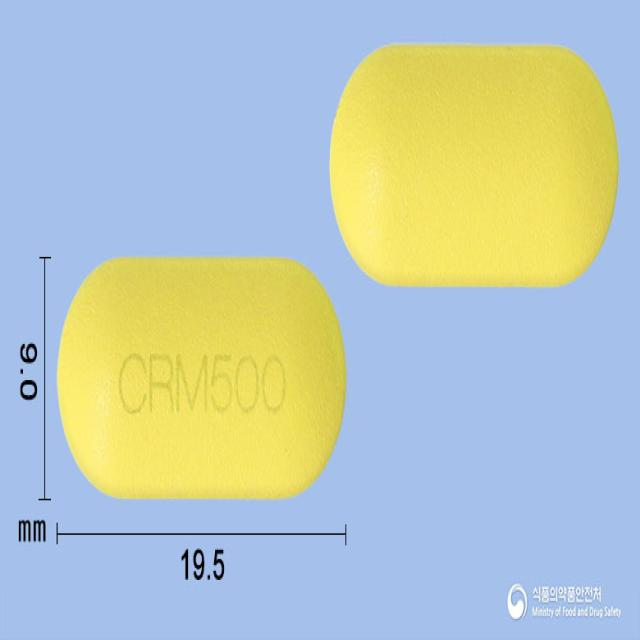Crama: (56, 254, 348, 498), (328, 40, 620, 282)
